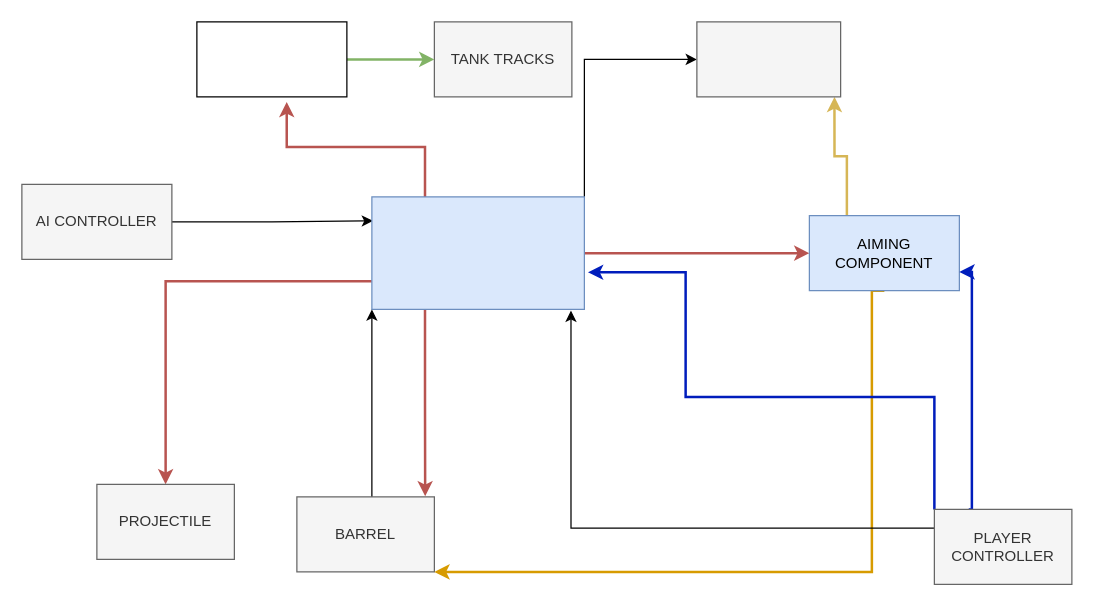
Image size: 1094x606. Some labels were removed from this diagram. The centre of each missing label's shape, as x and y in pixels:
TANK: point (477, 252)
TANK MOVEMENT COMPONENT: point (271, 59)
TANK TURRET: point (768, 59)
